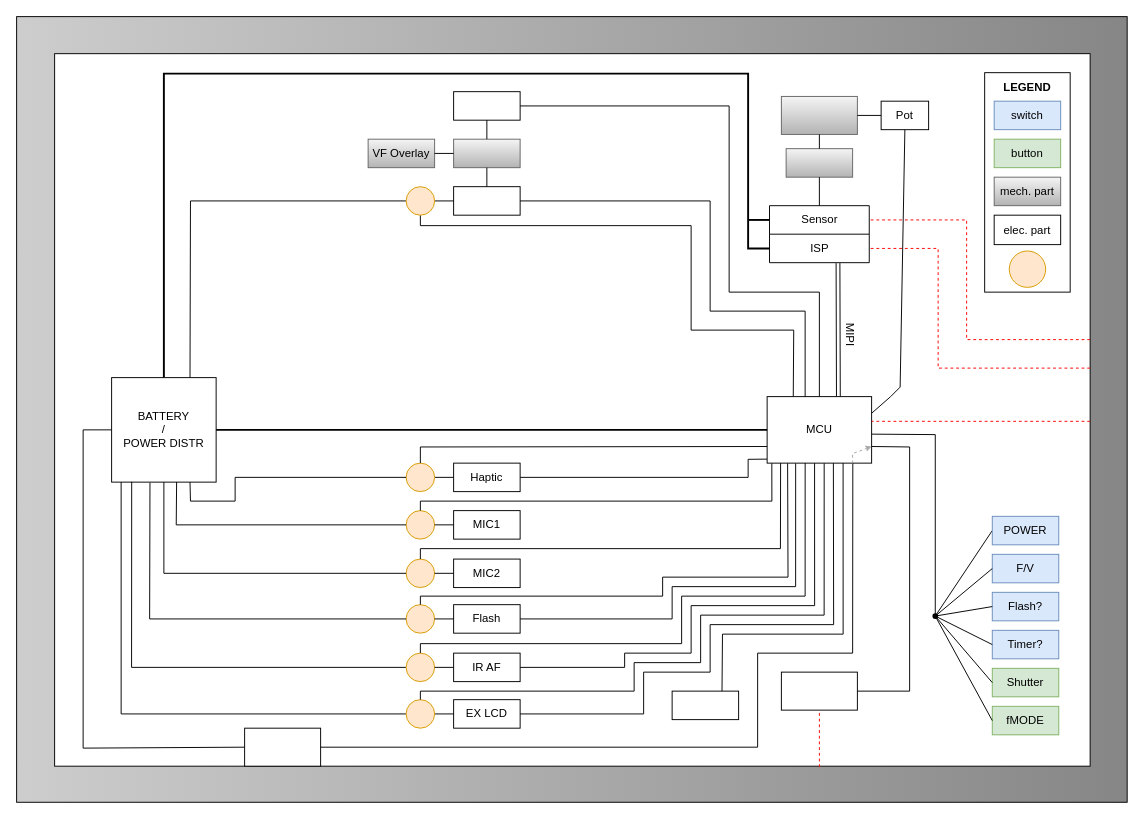
This 1144x819 diagram has some shape labels left out. Here are the shapes that lost their labels. From the top down, the centre of each, then its label:
point (486, 105): VF LED
point (818, 114): Zoom Ring
point (486, 153): VF
point (819, 162): Lens
point (486, 200): VF LCD
point (1027, 268): MSFT
point (705, 705): EX LED
point (818, 690): SD
point (282, 746): USB-C
